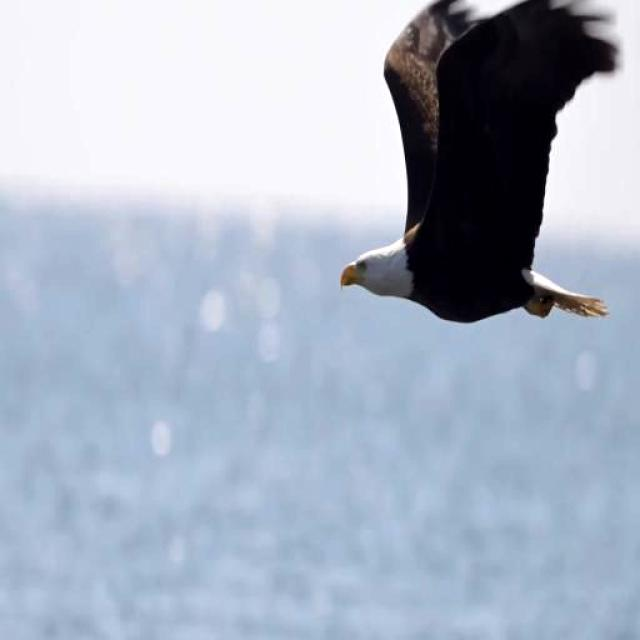airplane: (332, 0, 622, 341)
